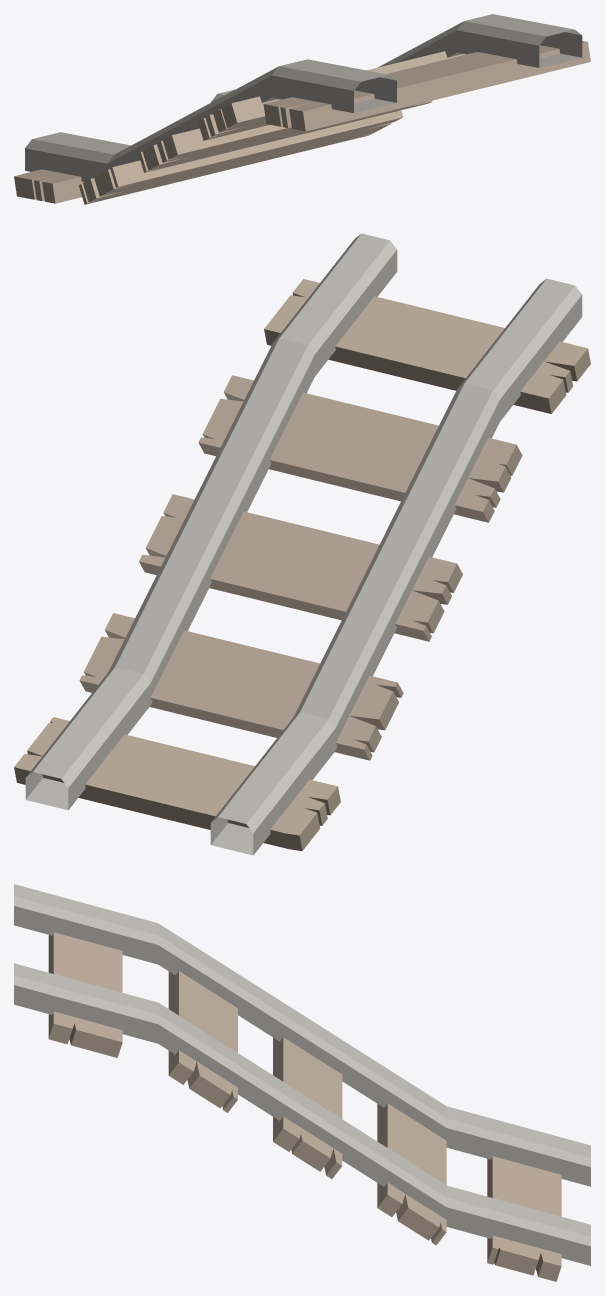
Rendered from Cave_Prop_Railway_Hill_Sharp.glb.
3 renders of one model, top to bottom at view 1: azimuth 30°, elevation 25°; view 2: azimuth 150°, elevation 25°; view 3: azimuth 270°, elevation 25°, orthographic. The views are drawn at different scales.
Parts seen in each view (by area): view 1: Cave_Prop_Railway_Hill_Sharp; view 2: Cave_Prop_Railway_Hill_Sharp; view 3: Cave_Prop_Railway_Hill_Sharp.
Part boxes in pixels (box(x1,y1,x2,y2)): Cave_Prop_Railway_Hill_Sharp: box(14, 14, 590, 204); Cave_Prop_Railway_Hill_Sharp: box(14, 233, 590, 855); Cave_Prop_Railway_Hill_Sharp: box(14, 884, 590, 1281).
Bounding box in the file's own units: 0.5 × 0.557 × 1.
